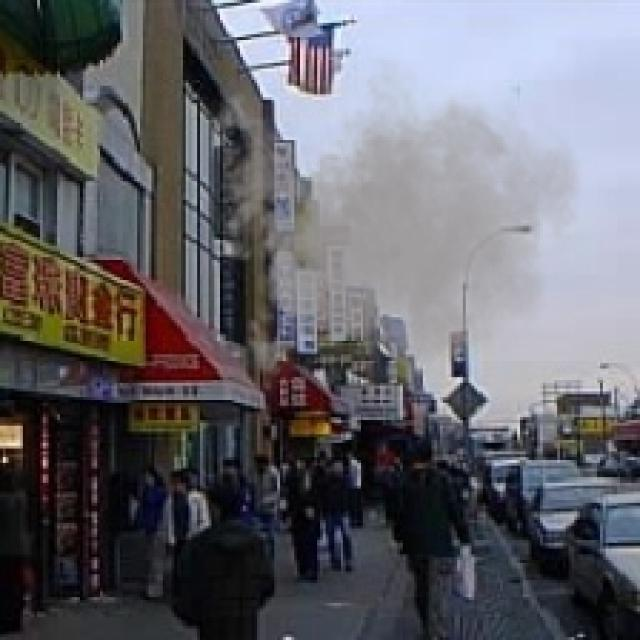Smoke: (200, 34, 589, 434)
